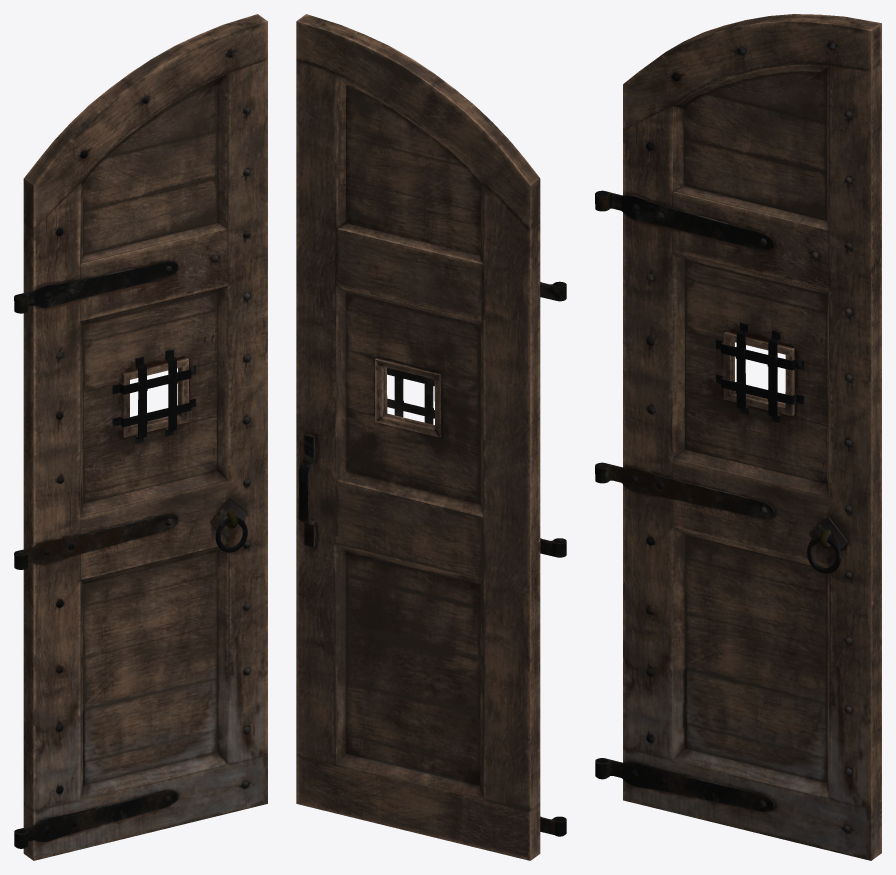
File: door_leaf_left.glb
3 views of the same model, side by side, from view 1: azimuth 30°, elevation 25°; view 2: azimuth 150°, elevation 25°; view 3: azimuth 330°, elevation 25° (orthographic). The views are drawn at different scales.
Parts seen in each view (by area): view 1: door_leaf_left; view 2: door_leaf_left; view 3: door_leaf_left.
Part boxes in pixels (x1,y1,x2,y2): door_leaf_left: (14,14,267,860); door_leaf_left: (296,14,566,860); door_leaf_left: (595,14,881,860).
Bounding box in the file's own units: 1.04 × 3.03 × 0.1692.
1 material, 1 textured.
